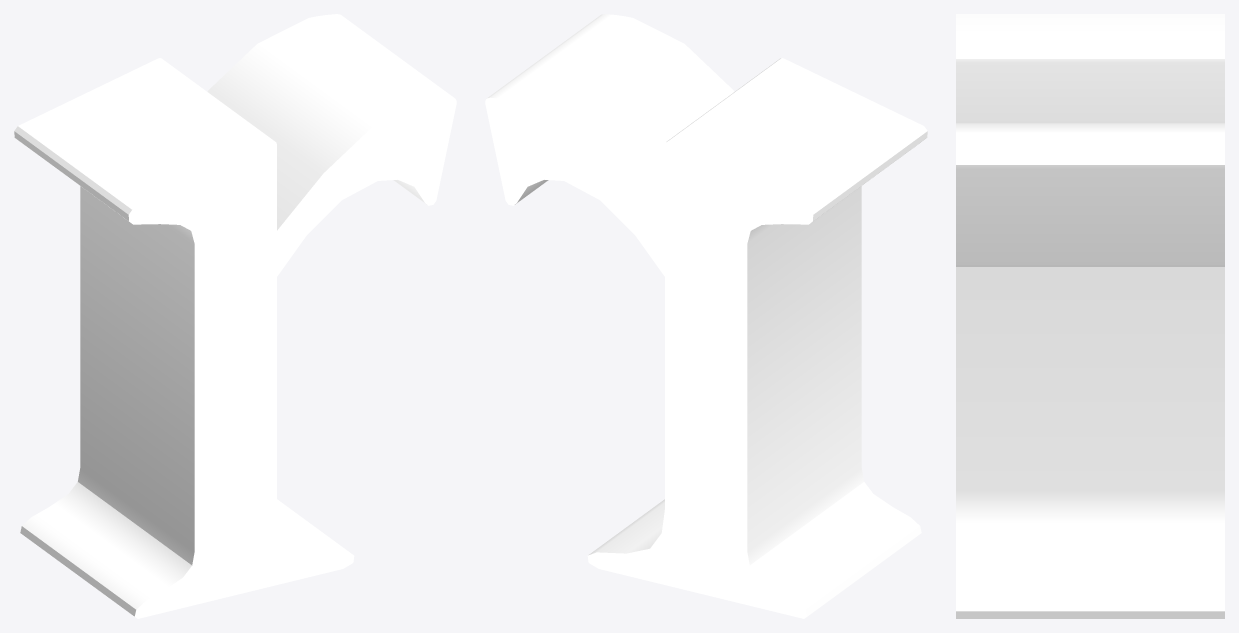
The model's file is R_Soul_White.glb.
The picture shows the model from 3 angles, left to right: view 1: azimuth 30°, elevation 25°; view 2: azimuth 150°, elevation 25°; view 3: azimuth 270°, elevation 25°; orthographic projection. The views are drawn at different scales.
Parts seen in each view (by area): view 1: r_Soul_White; view 2: r_Soul_White; view 3: r_Soul_White.
Part boxes in pixels (x1=…): r_Soul_White: x1=14, y1=14, x2=456, y2=618; r_Soul_White: x1=485, y1=14, x2=927, y2=618; r_Soul_White: x1=956, y1=14, x2=1224, y2=618.
Size of what is drawn, in the model's own units: 0.0745 by 0.0971 by 0.045.
2 materials, 2 textured.
